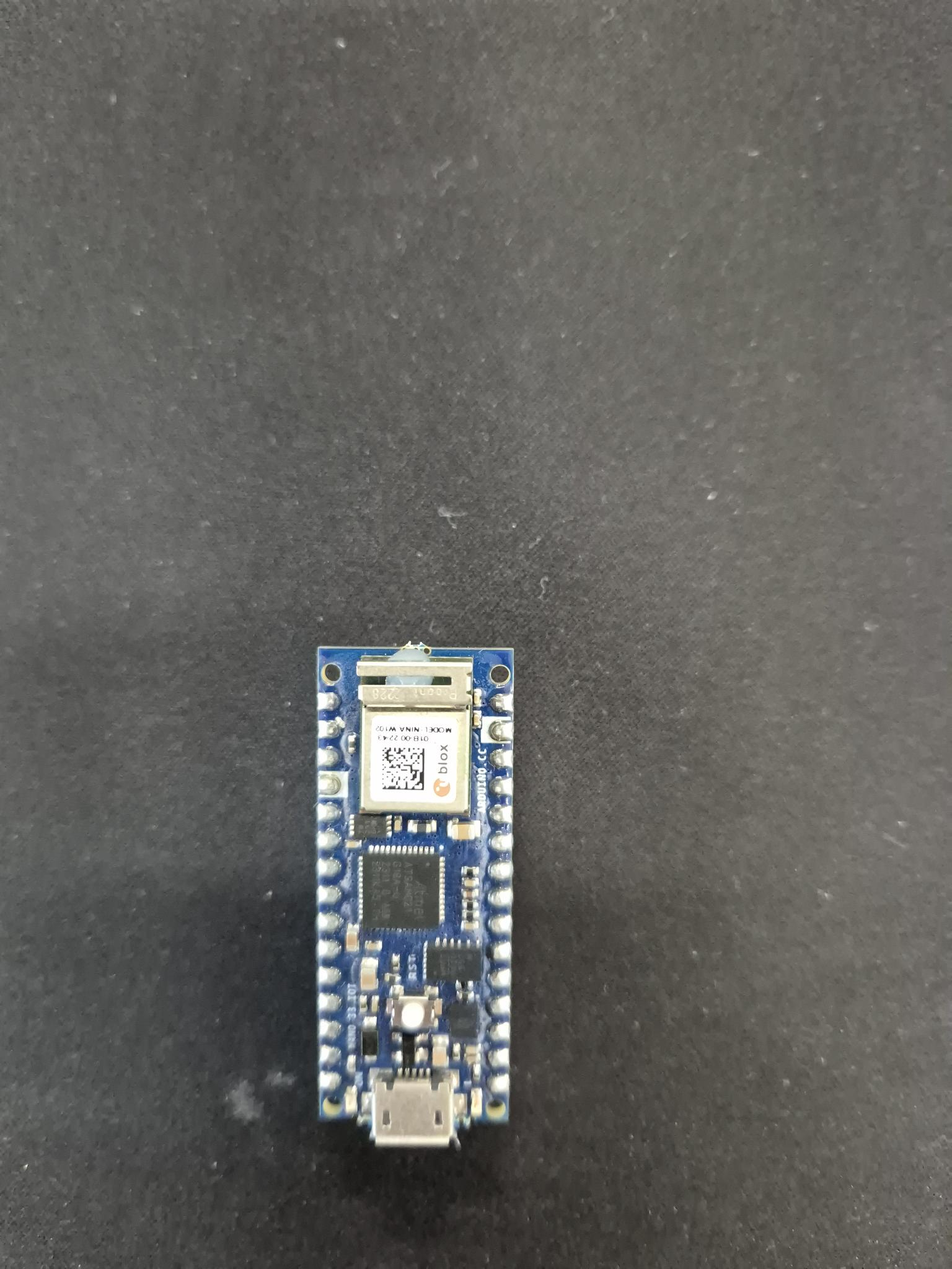arduino-nano-iot-33: (315, 643, 558, 1156)
